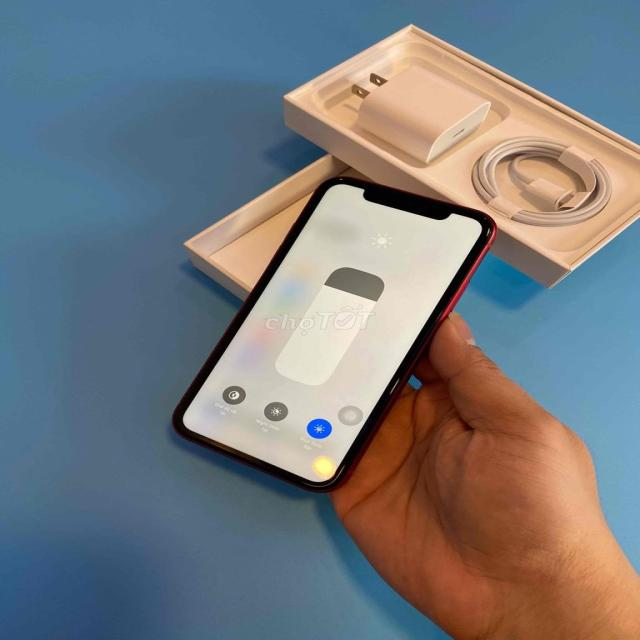gen_14: (172, 164, 495, 492)
